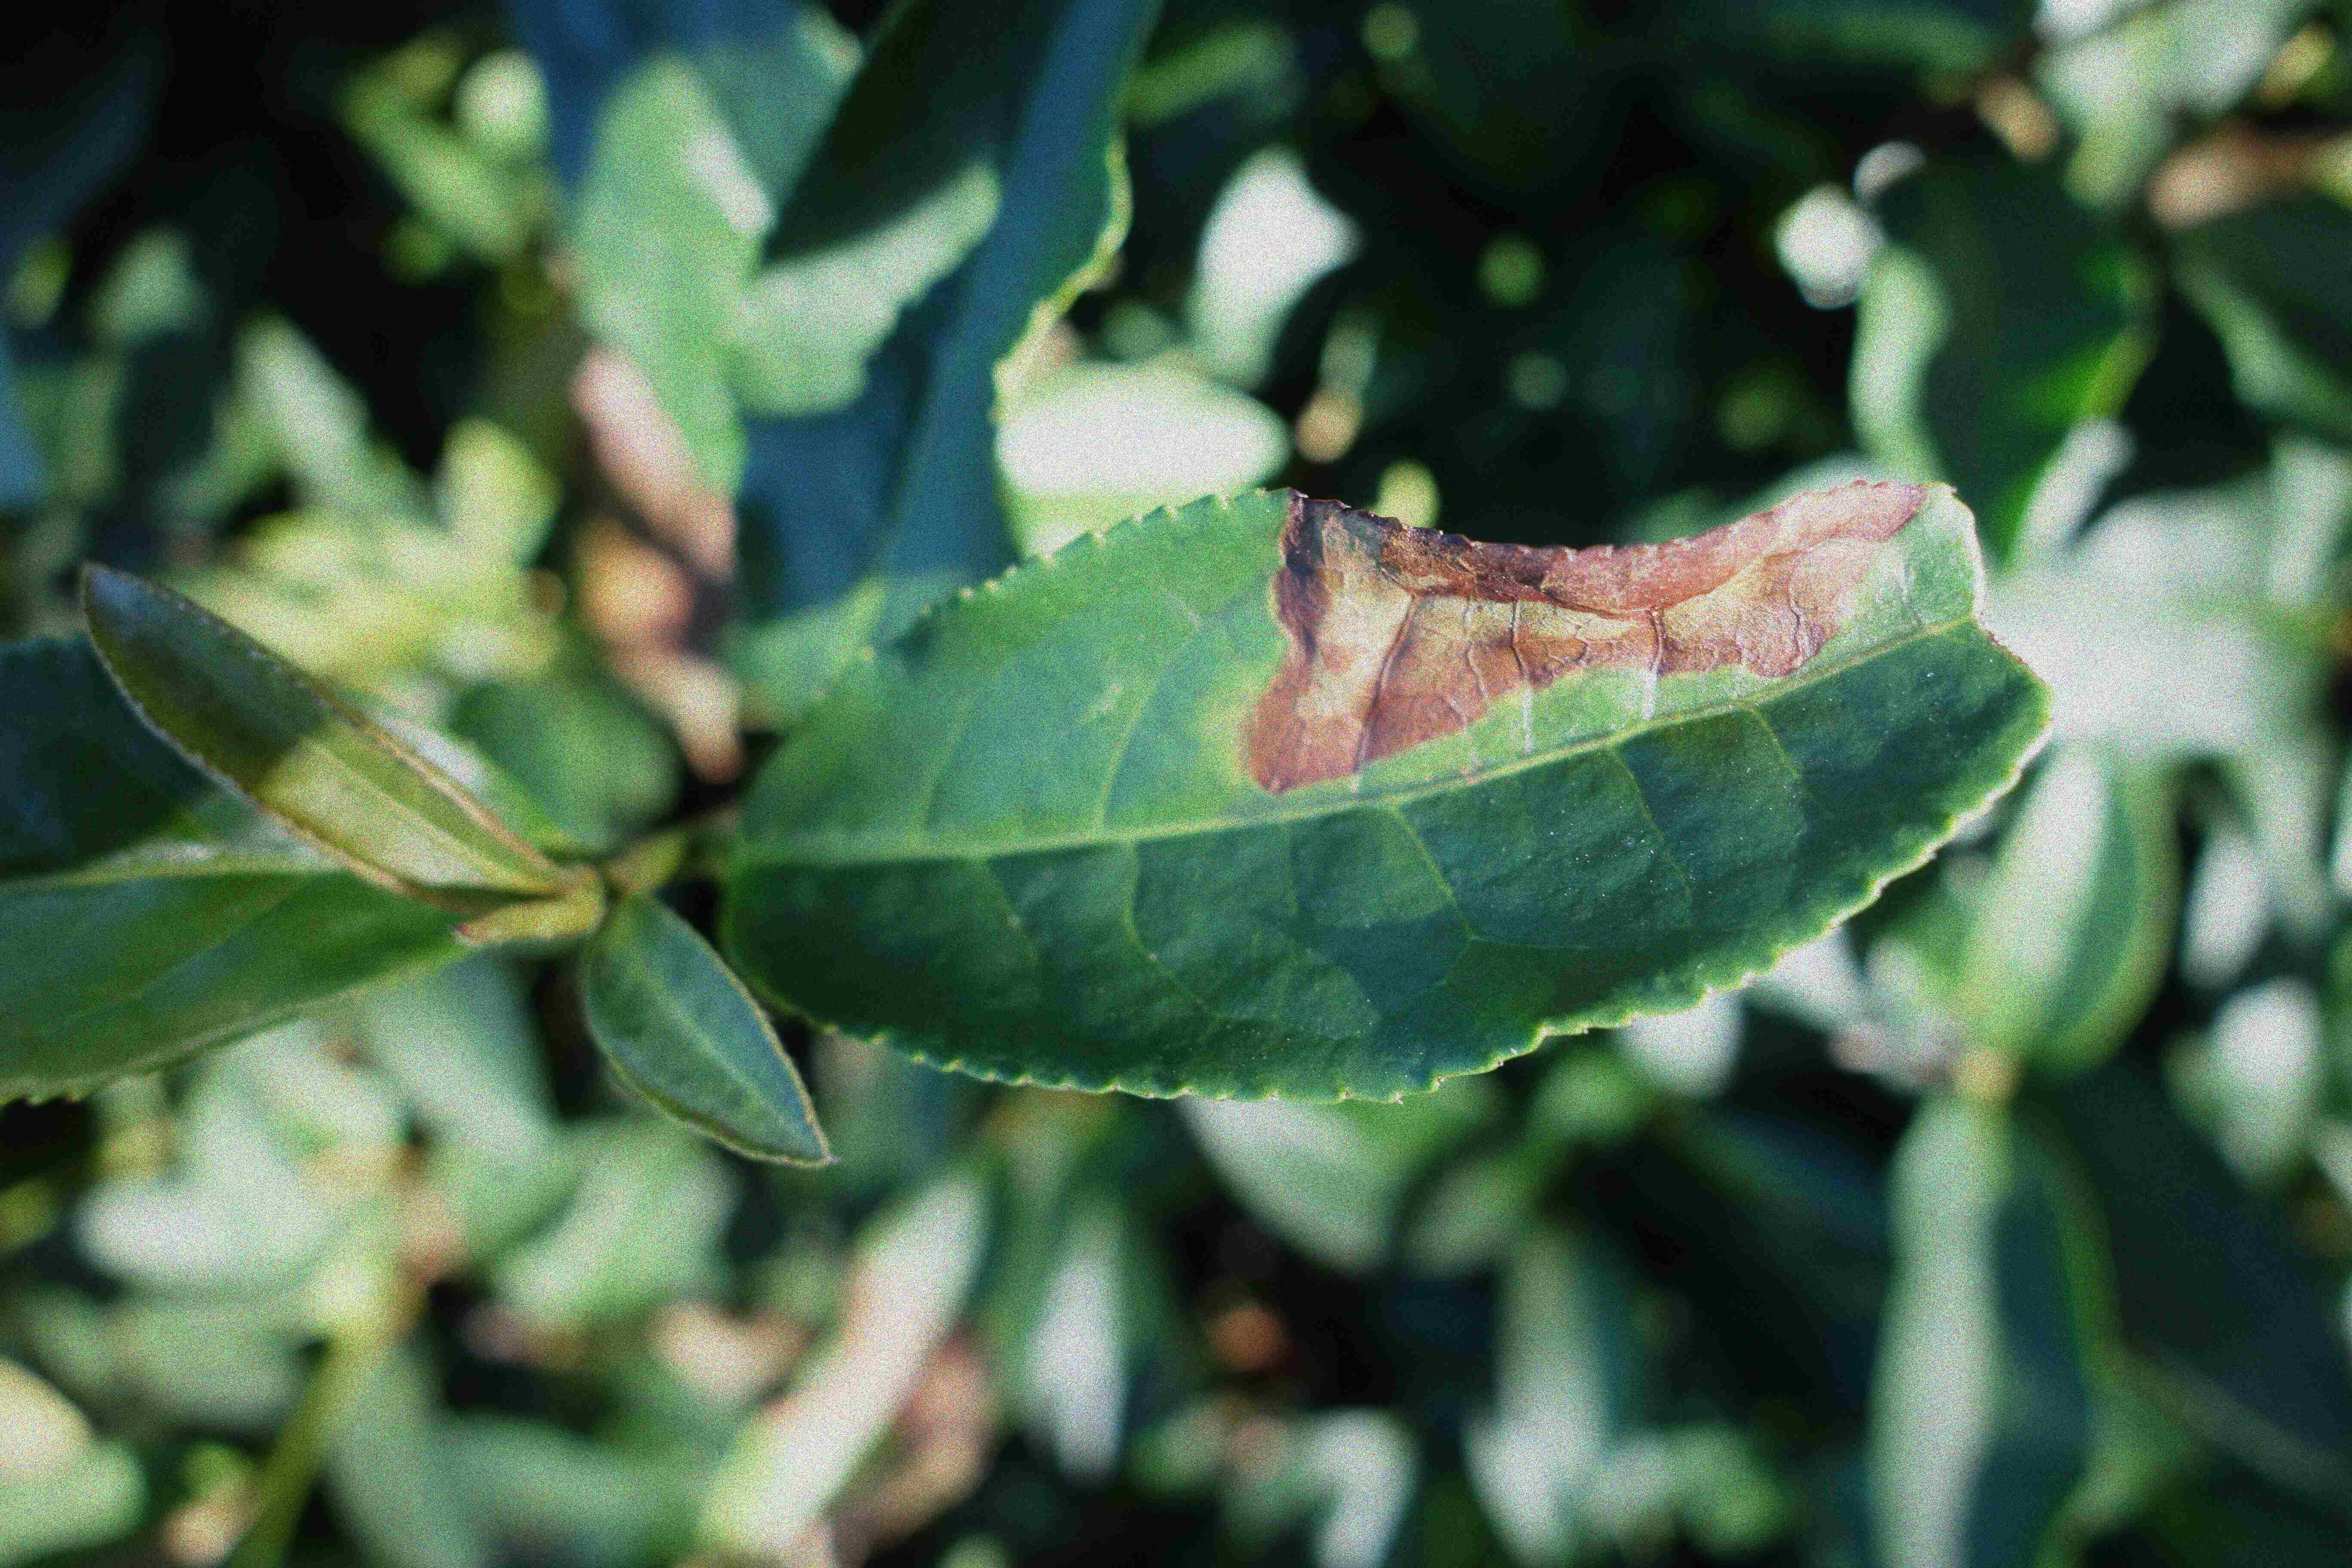tanju_high: (721, 476, 2058, 1102)
tanju_low: (86, 560, 562, 910)
